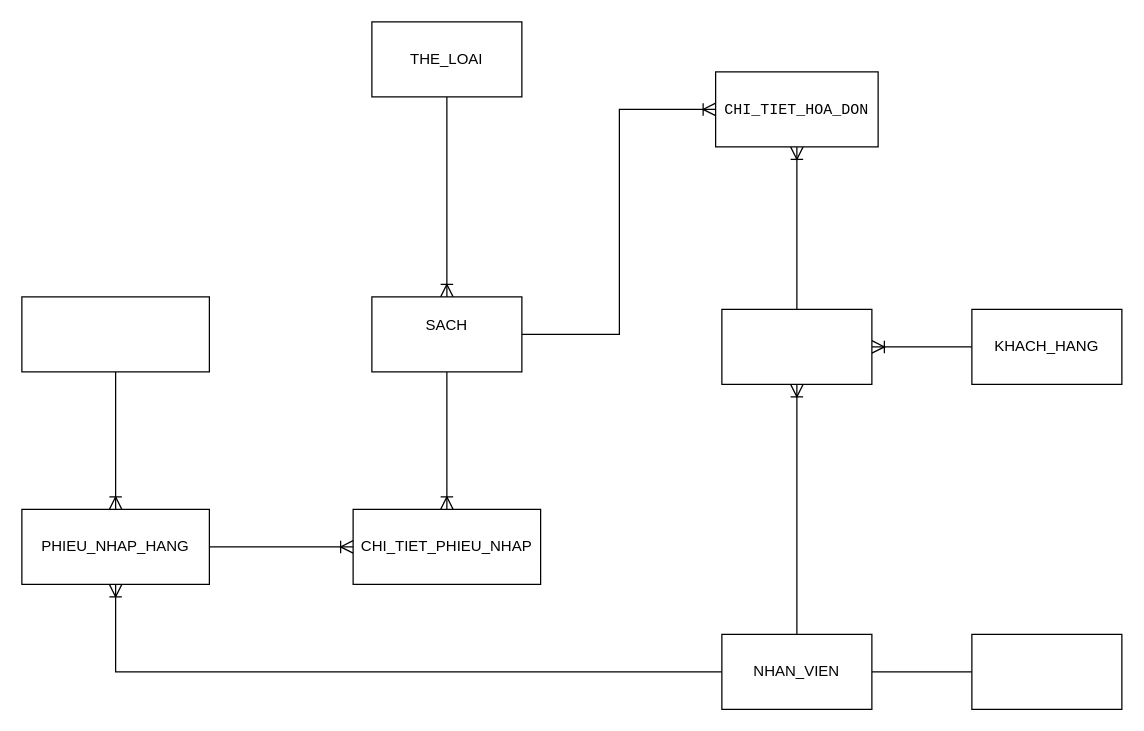
Image size: 1144x731. Some labels were removed from this diagram. The shapes that lost their labels are listed below. From the top down, each one's box as (x1, y1, x2, y2) in pixels, then its label:
(21, 296, 209, 372): NHA_CUNG_CAP
(721, 308, 872, 384): HOA_DON
(971, 633, 1122, 709): TAI_KHOAN
